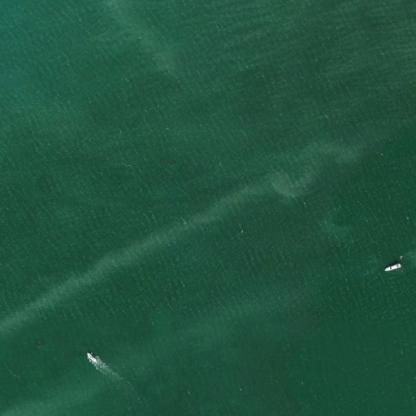ship: (377, 256, 405, 276), (80, 345, 102, 370)
